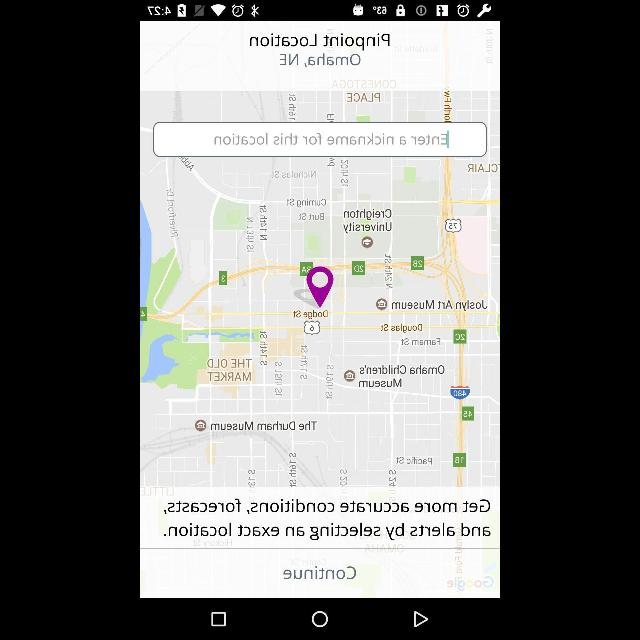icon: (414, 611, 428, 629), (312, 612, 328, 626), (212, 612, 226, 626)
input: (154, 123, 486, 155)
map: (141, 90, 499, 486)
panel: (140, 598, 500, 640)
text: (163, 498, 489, 536), (215, 134, 448, 146), (250, 34, 390, 48), (278, 54, 359, 64)
textbutton: (140, 549, 500, 597)
uppertaskbar: (140, 0, 500, 20)
